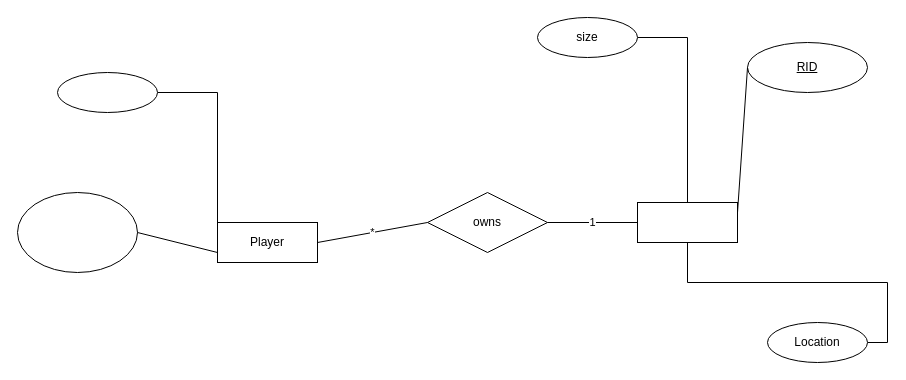
Some shapes in this 906 by 380 pixel diagram are drawn without their labels. The shapes that lost their labels are listed below. From the top down, each one's centre as x and y in pixels, then its label:
At point 107,92: "PName".
At point 77,232: "PID".
At point 687,222: "StorageArea".
